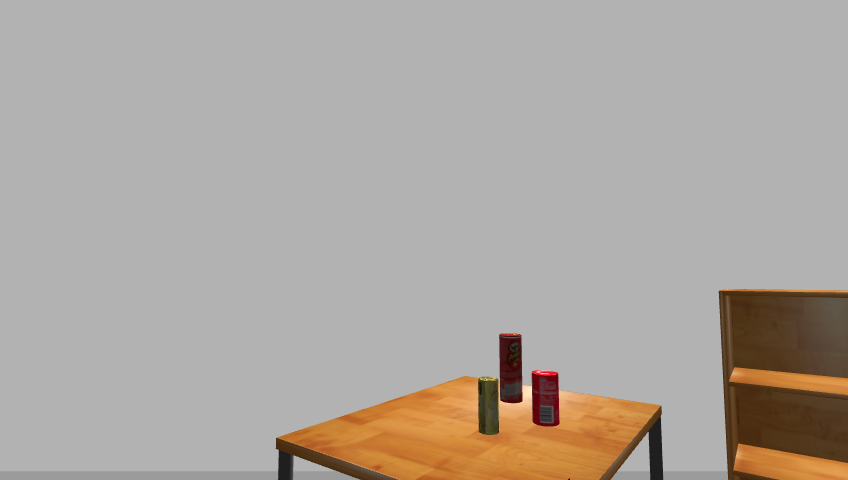biscuits pack: (477, 376, 500, 436)
bookshelf: (713, 287, 848, 480)
coke can: (531, 370, 562, 427)
dinner table: (271, 377, 674, 480)
pringles can: (496, 332, 525, 405)
